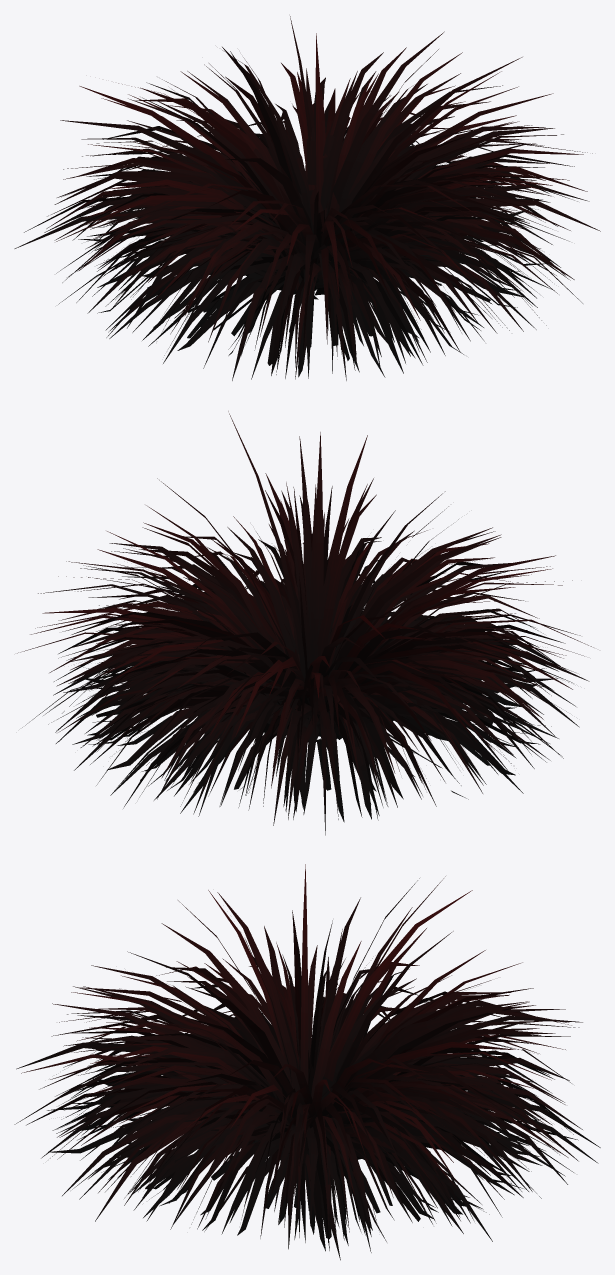
File: shade_grass_v01.glb
3 renders of one model, top to bottom at view 1: azimuth 30°, elevation 25°; view 2: azimuth 150°, elevation 25°; view 3: azimuth 270°, elevation 25°, orthographic. The views are drawn at different scales.
Parts seen in each view (by area): view 1: shade_grass_v01; view 2: shade_grass_v01; view 3: shade_grass_v01.
Part boxes in pixels (box(x1,y1,x2,y2)): shade_grass_v01: box(14, 16, 600, 380); shade_grass_v01: box(17, 411, 593, 835); shade_grass_v01: box(14, 864, 600, 1260).
Size of the model in its own units: 0.588 by 0.2561 by 0.5841.
Materials: 1 (1 with a texture image).
